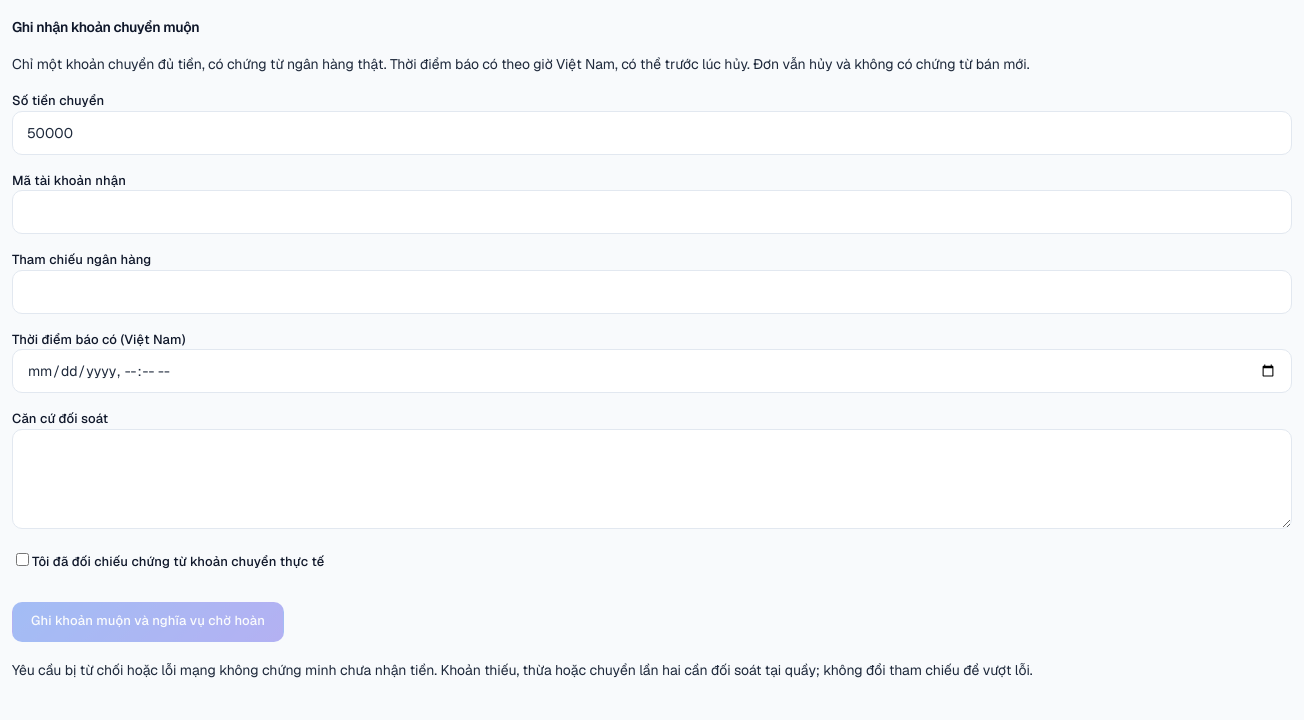
it: US-45 TC16: deliberate cancel, immutable recovery keys and financial wording › completed order has no cancellation; cancelled order exposes a separate late transfer form with VN timestamp
This screenshot has width=1304, height=720.
Type "GYM_MAIN" into the field labelled "Mã tài khoản nhận" at coordinates (652, 212), box [12,190,1292,234]
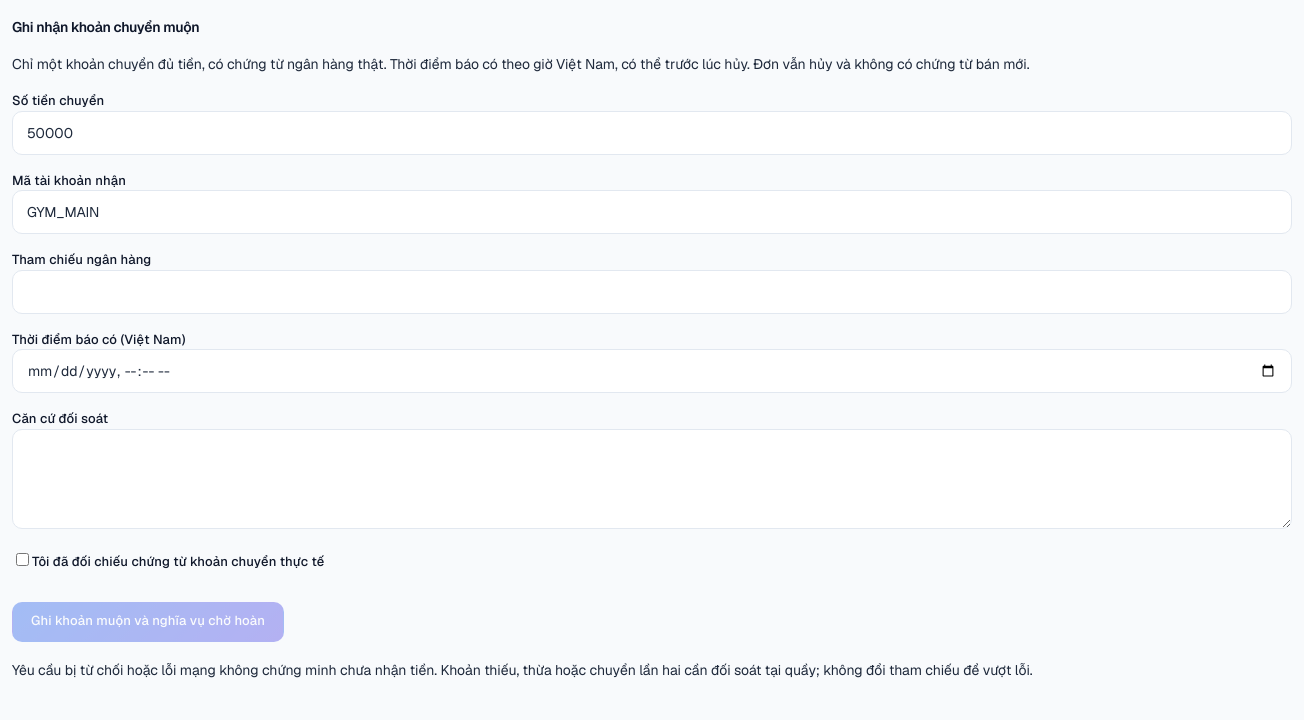
Type "BANK-REAL-REFERENCE" into the field labelled "Tham chiếu ngân hàng" at coordinates (652, 292), box [12,270,1292,314]
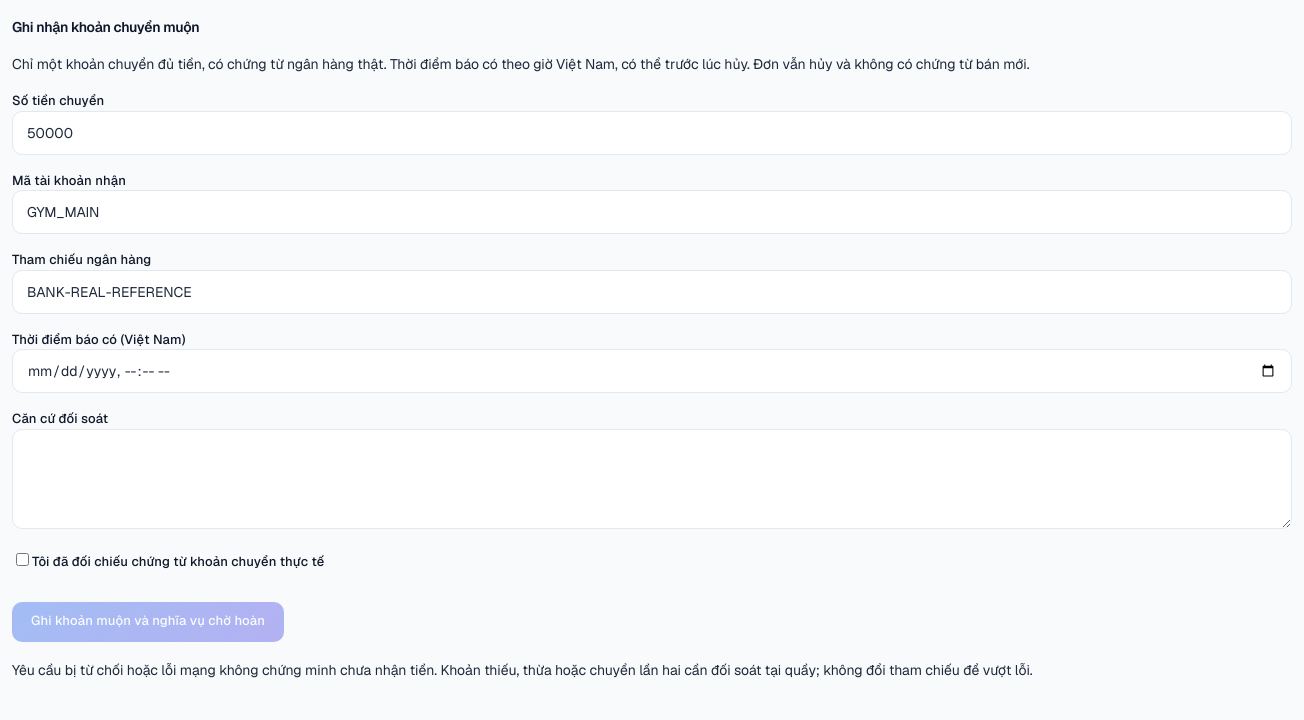
Type "2035-11-15T00:00" into the field labelled "Thời điểm báo có (Việt Nam)" at coordinates (652, 371), box [12,349,1292,393]
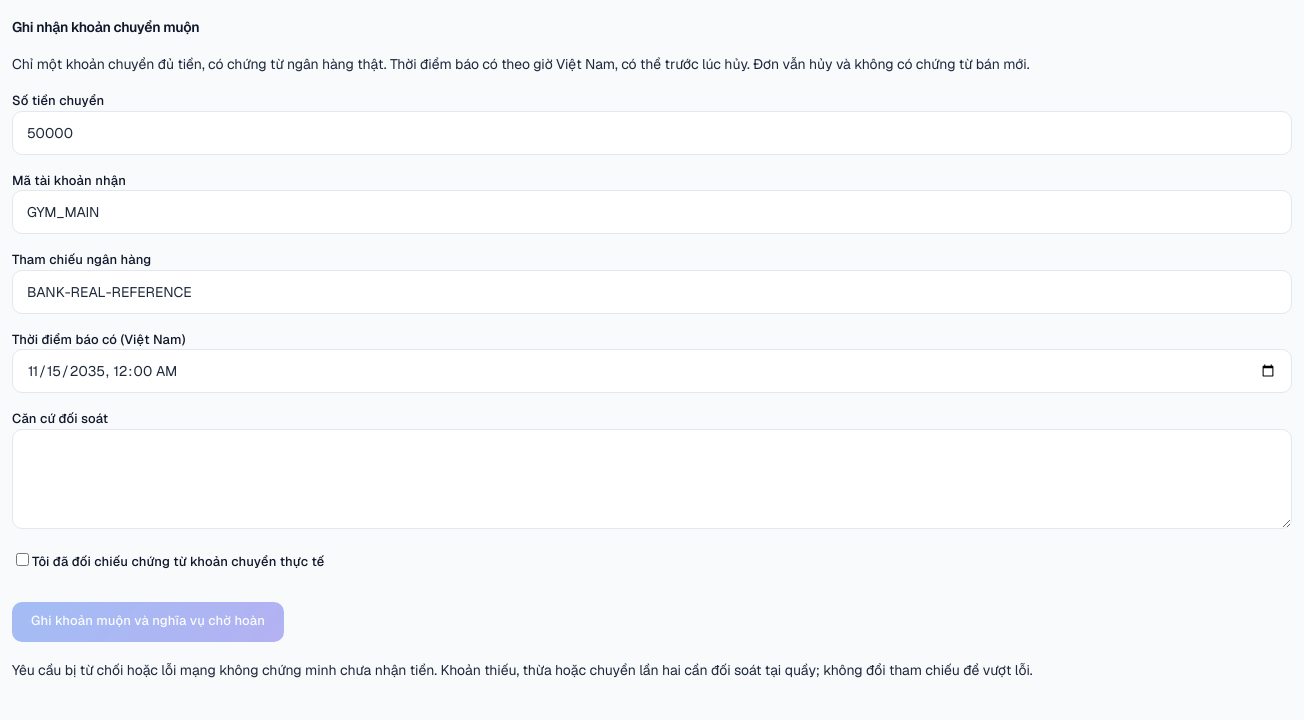
Type "Đối soát chứng từ nhận tiền thật" into the text box labelled "Căn cứ đối soát" at coordinates (652, 478), box [12,428,1292,528]
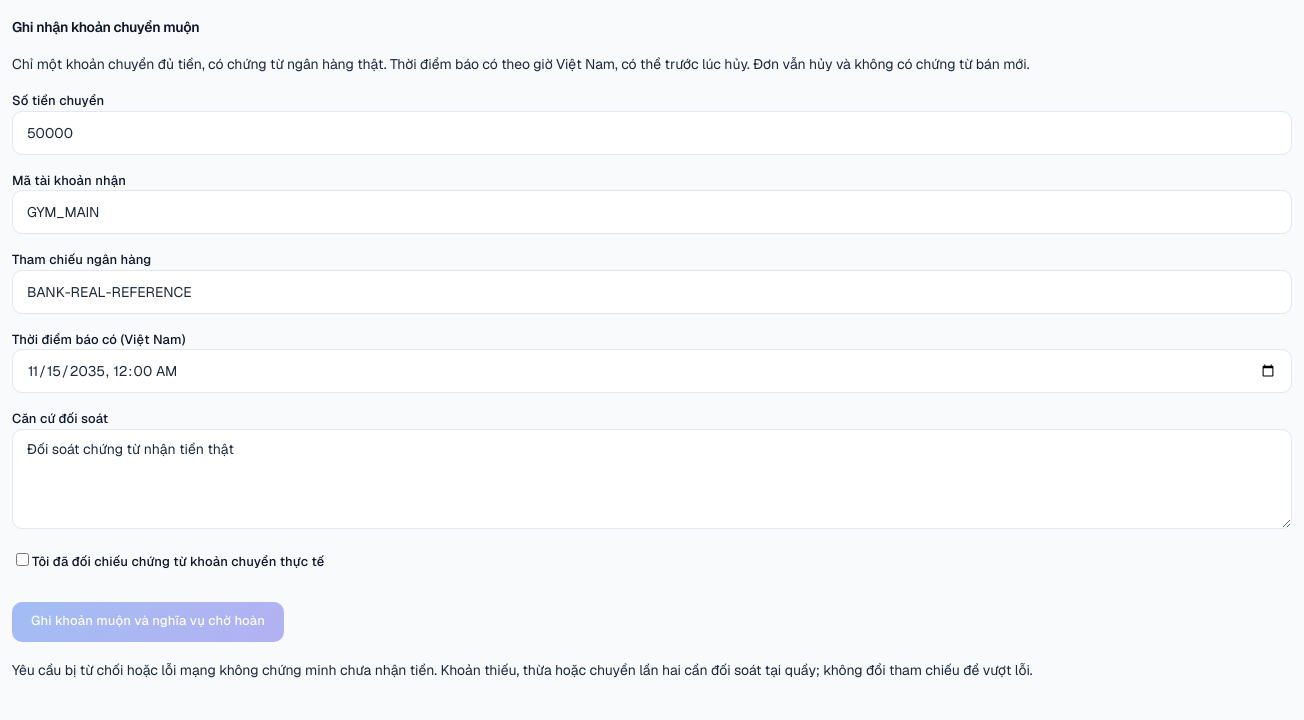
Click the checkbox labelled "Tôi đã đối chiếu chứng từ khoản chuyển thực tế" at coordinates (22, 560), box [16,553,29,566]
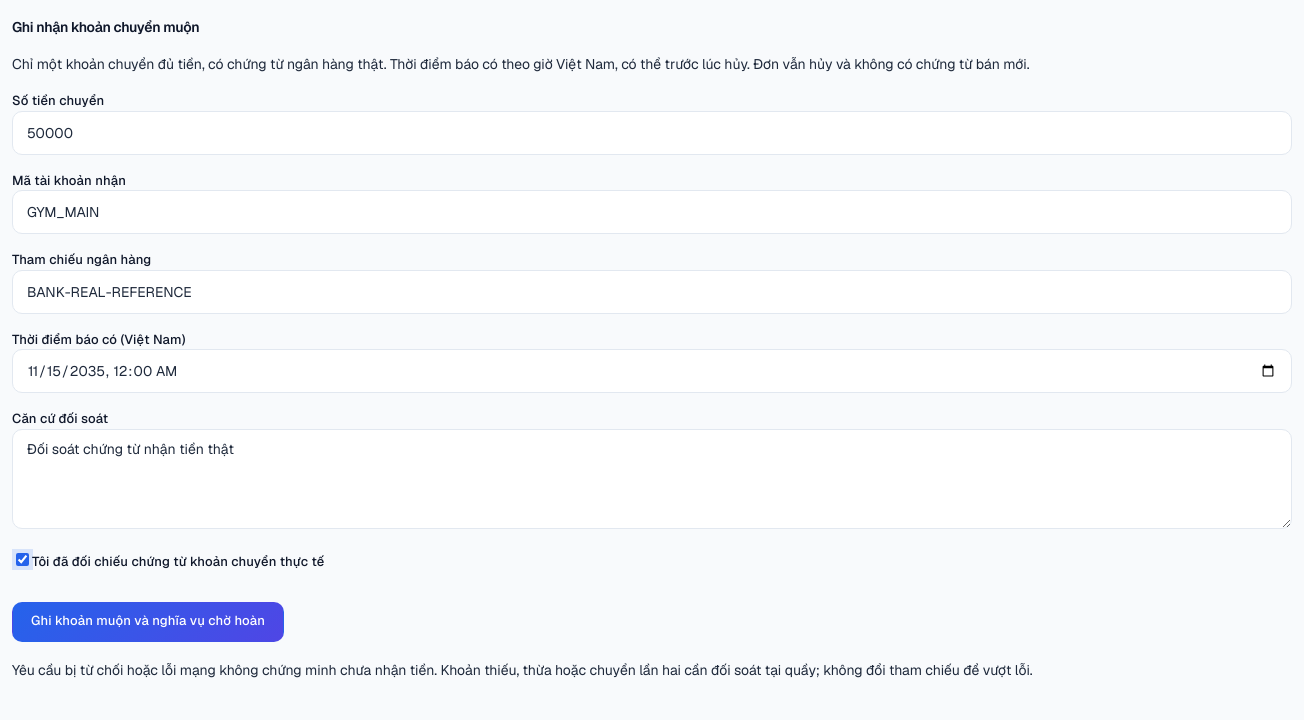
Click the button "Ghi khoản muộn và nghĩa vụ chờ hoàn" at coordinates (148, 622), box [12,602,284,642]
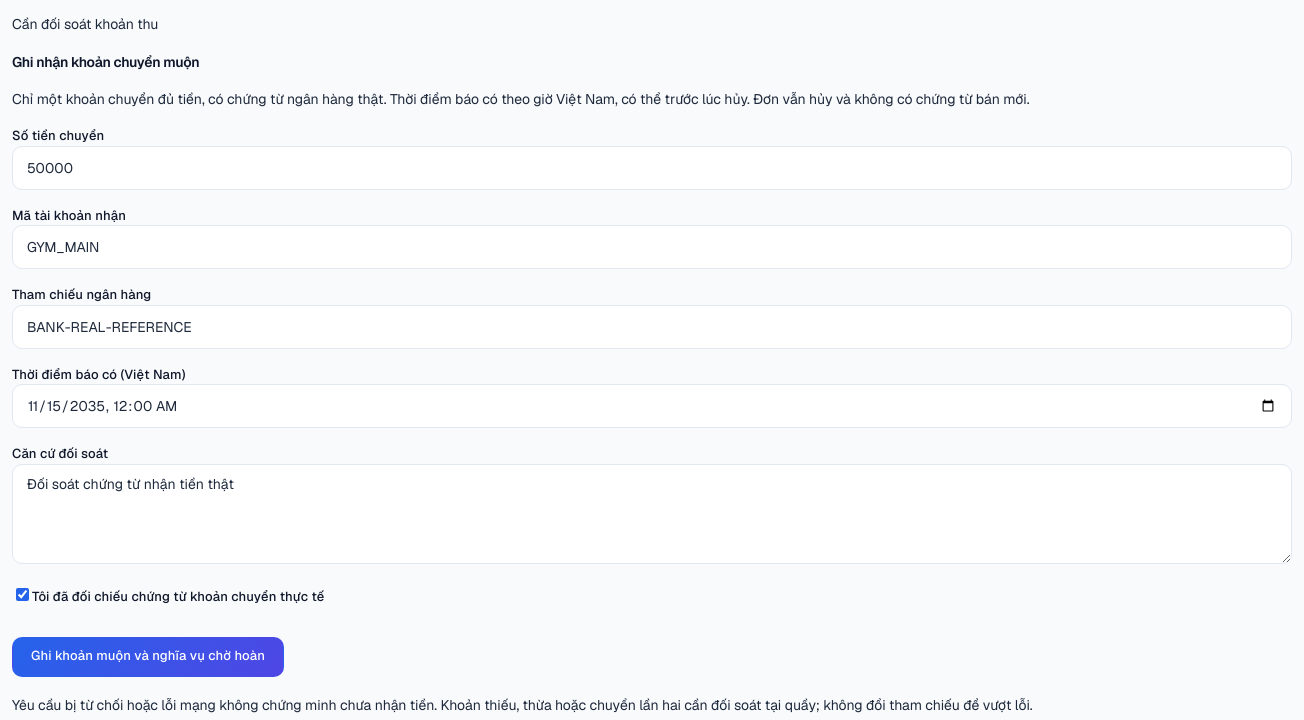
Expected: the text "không chứng minh chưa nhận tiền" is shown, [12,696,1033,714]
Result: the text "Cần đối soát khoản thu" is shown at [12,15,158,33]
